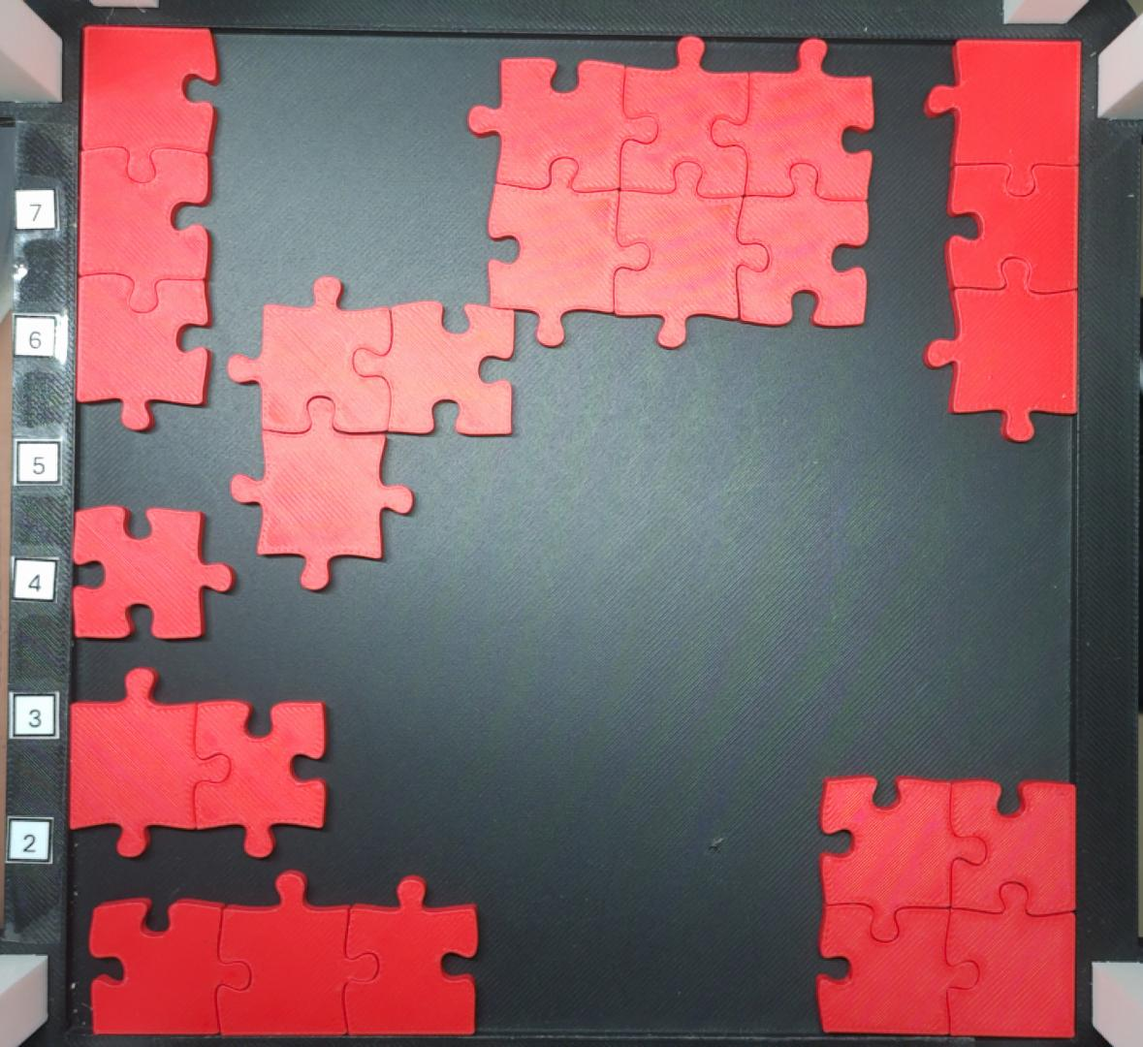p_1: (70, 503, 238, 643)
p_2: (66, 665, 330, 861)
p_3: (225, 272, 518, 593), (85, 869, 479, 1038), (922, 36, 1082, 443), (75, 22, 221, 432)
p_4: (814, 772, 1079, 1042)
p_m: (466, 34, 876, 349)
